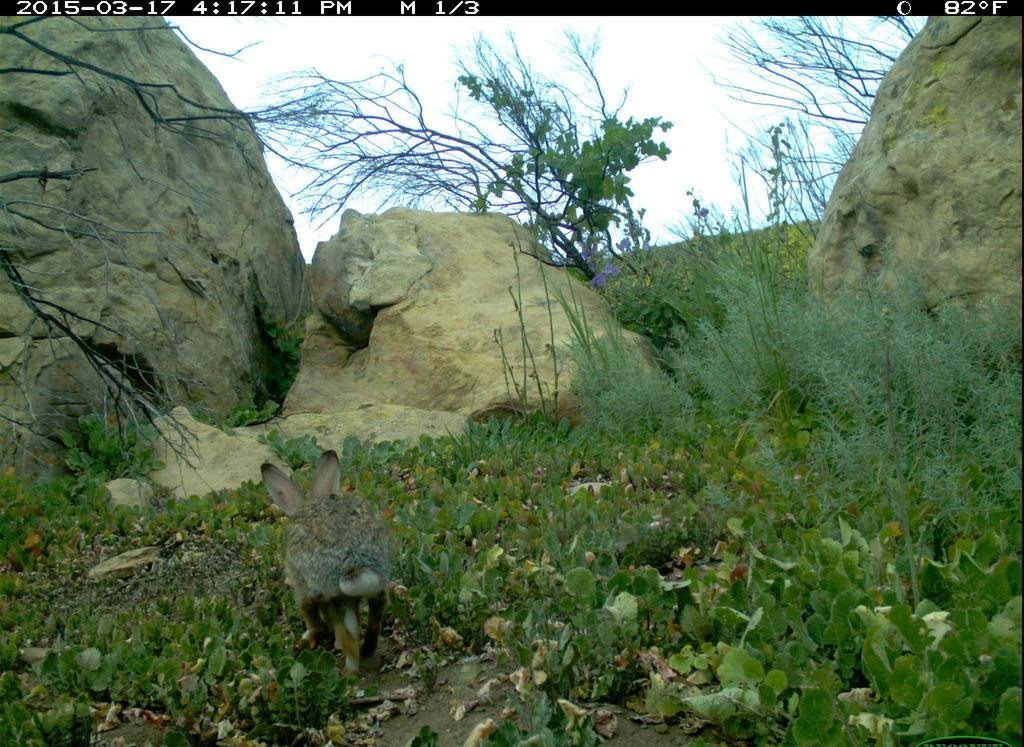rabbit: (254, 447, 402, 678)
